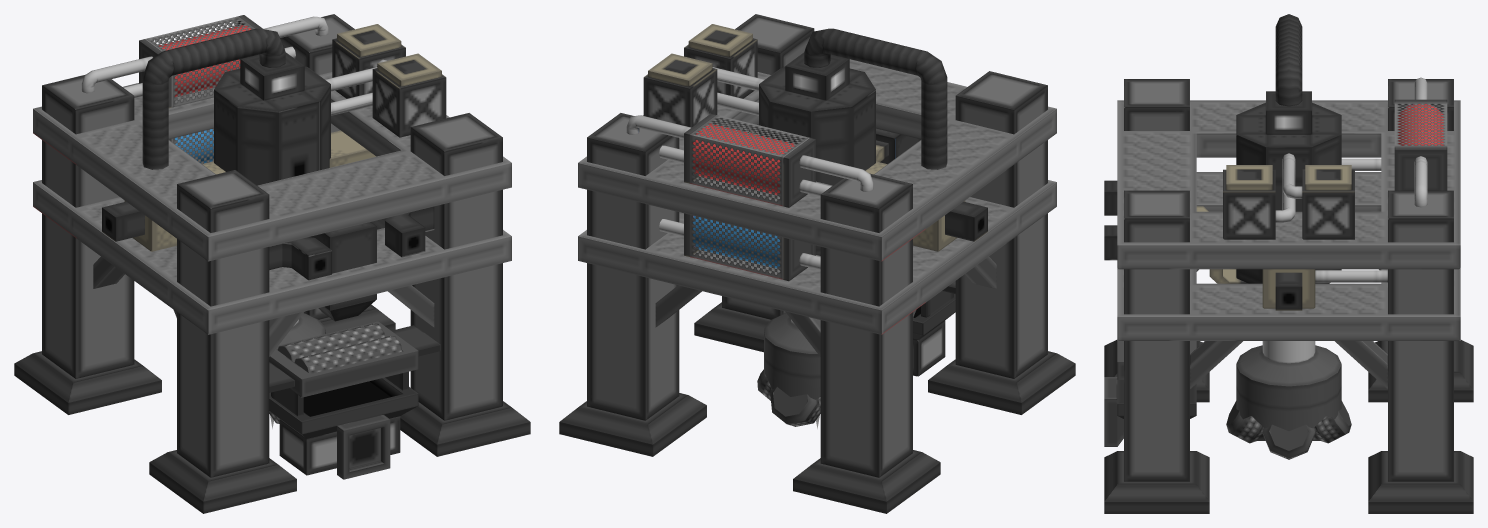
The model's file is mining_drill.obj.
The picture shows the model from 3 angles, left to right: view 1: azimuth 30°, elevation 25°; view 2: azimuth 150°, elevation 25°; view 3: azimuth 270°, elevation 25°; orthographic projection. The views are drawn at different scales.
Parts seen in each view (by area): view 1: Main, Crusher1, Crusher2, Drillbit; view 2: Main, Drillbit; view 3: Main, Drillbit, Shaft.
Boxes of the visible parts, bbox=[...] form: Main: bbox=[14, 14, 530, 513]; Crusher1: bbox=[294, 336, 402, 373]; Crusher2: bbox=[278, 323, 384, 362]; Drillbit: bbox=[269, 313, 325, 428]; Main: bbox=[559, 14, 1075, 513]; Drillbit: bbox=[757, 313, 820, 428]; Main: bbox=[1104, 14, 1473, 513]; Drillbit: bbox=[1226, 345, 1351, 459]; Shaft: bbox=[1262, 341, 1315, 363].
Bounding box in the file's own units: 7 × 8.25 × 7.
